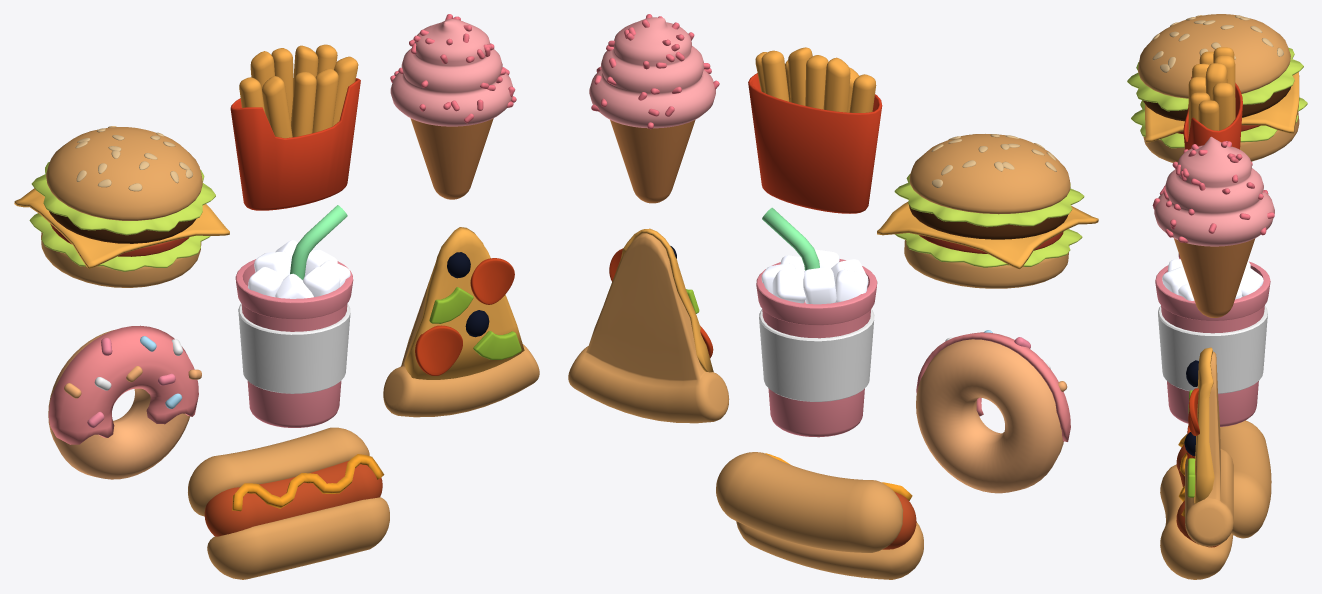
Rendered from food_set.glb.
The picture shows the model from 3 angles, left to right: view 1: azimuth 30°, elevation 25°; view 2: azimuth 150°, elevation 25°; view 3: azimuth 270°, elevation 25°; orthographic projection. The views are drawn at different scales.
Bounding box in the file's own units: 5.72 × 5.71 × 1.89.
